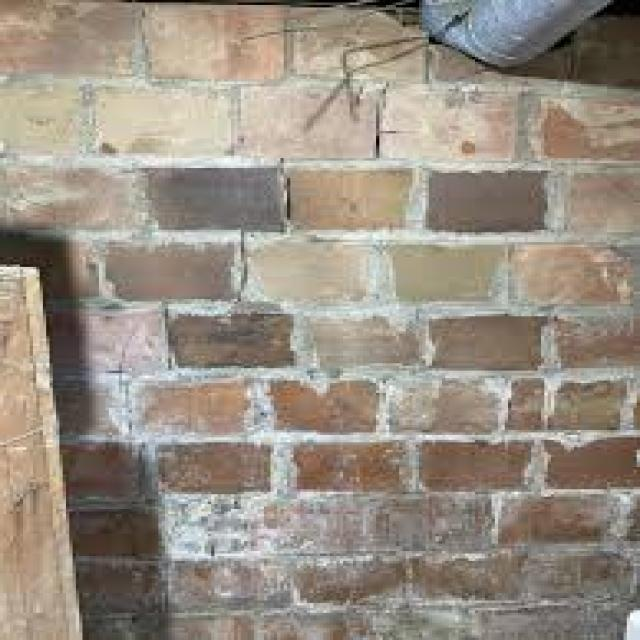Crack: (158, 87, 390, 370)
